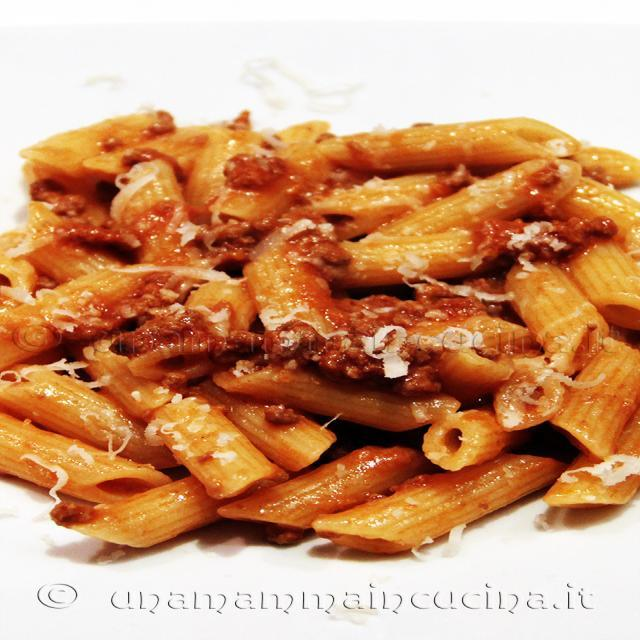Pasta al ragu: (29, 104, 610, 518)
